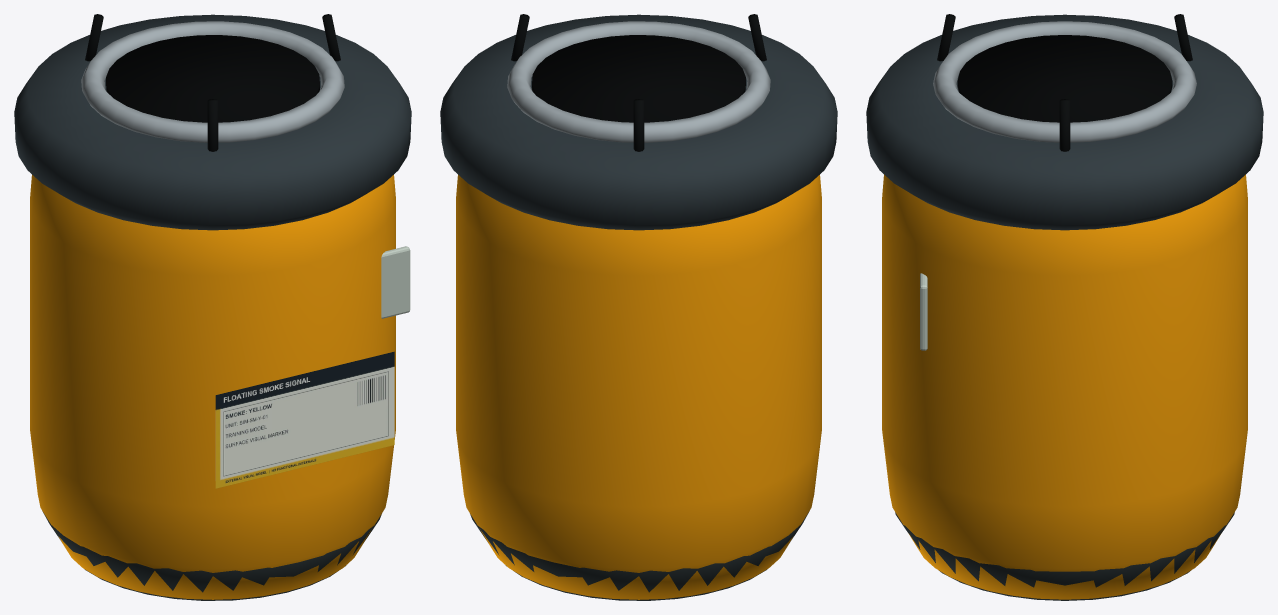
Rendered from floating_smoke_signal_yellow.glb.
3 renders of one model, left to right at view 1: azimuth 30°, elevation 25°; view 2: azimuth 150°, elevation 25°; view 3: azimuth 270°, elevation 25°, orthographic.
Visible parts, largest first — view 1: SMOKE_BODY, TOP_CAP_DARK, LABEL_SMOKE_ORANGE, GRAPHIC_EMISSION_OPENING, EMISSION_FINISH_RIM, LOWER_CONTRAST_BASE, TECHNICAL_PLATE, TOP_DECORATIVE_GUARD_3; view 2: SMOKE_BODY, TOP_CAP_DARK, GRAPHIC_EMISSION_OPENING, EMISSION_FINISH_RIM, LOWER_CONTRAST_BASE, TOP_DECORATIVE_GUARD_2; view 3: SMOKE_BODY, TOP_CAP_DARK, GRAPHIC_EMISSION_OPENING, EMISSION_FINISH_RIM, LOWER_CONTRAST_BASE, TOP_DECORATIVE_GUARD_1, TECHNICAL_PLATE.
Part boxes in pixels (x1,y1,x2,y2): SMOKE_BODY: [30, 175, 395, 599]; TOP_CAP_DARK: [14, 14, 411, 230]; LABEL_SMOKE_ORANGE: [215, 351, 394, 488]; GRAPHIC_EMISSION_OPENING: [106, 35, 319, 122]; EMISSION_FINISH_RIM: [81, 21, 344, 142]; LOWER_CONTRAST_BASE: [42, 511, 381, 600]; TECHNICAL_PLATE: [381, 246, 410, 318]; TOP_DECORATIVE_GUARD_3: [207, 99, 218, 151]; SMOKE_BODY: [456, 175, 821, 599]; TOP_CAP_DARK: [440, 14, 837, 230]; GRAPHIC_EMISSION_OPENING: [532, 35, 745, 122]; EMISSION_FINISH_RIM: [507, 21, 770, 142]; LOWER_CONTRAST_BASE: [470, 511, 809, 600]; TOP_DECORATIVE_GUARD_2: [633, 99, 644, 151]; SMOKE_BODY: [882, 174, 1247, 599]; TOP_CAP_DARK: [866, 14, 1263, 230]; GRAPHIC_EMISSION_OPENING: [957, 35, 1172, 122]; EMISSION_FINISH_RIM: [933, 21, 1196, 142]; LOWER_CONTRAST_BASE: [895, 512, 1234, 600]; TOP_DECORATIVE_GUARD_1: [1059, 99, 1070, 151]; TECHNICAL_PLATE: [920, 273, 927, 350].
Size of the model in its own units: 0.304 by 0.4278 by 0.304.
8 materials, 1 textured.
